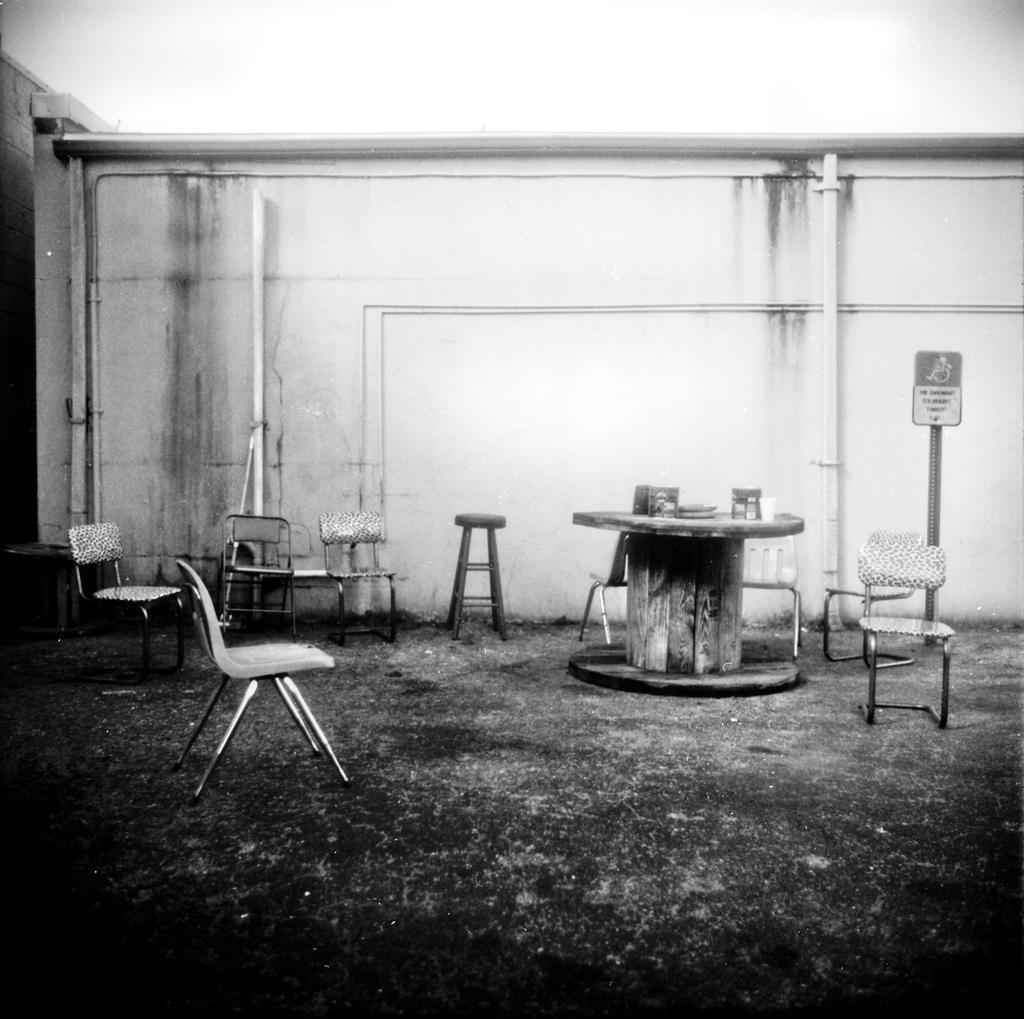Chair: (165, 520, 348, 806), (849, 531, 961, 726), (55, 518, 188, 681), (818, 538, 917, 681), (313, 509, 408, 643), (447, 500, 518, 648)
